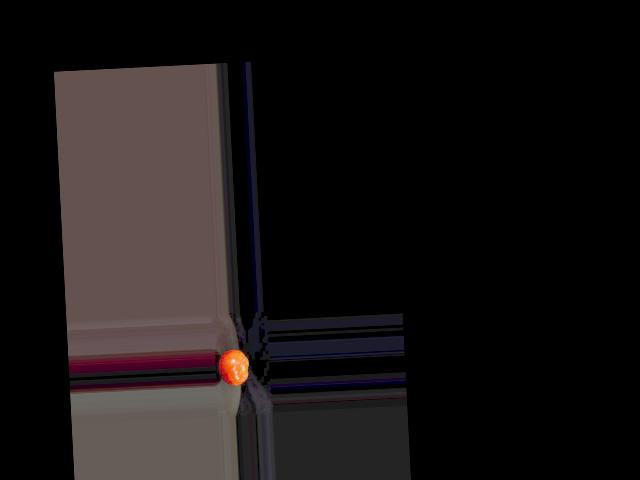tomato: (217, 348, 249, 386)
